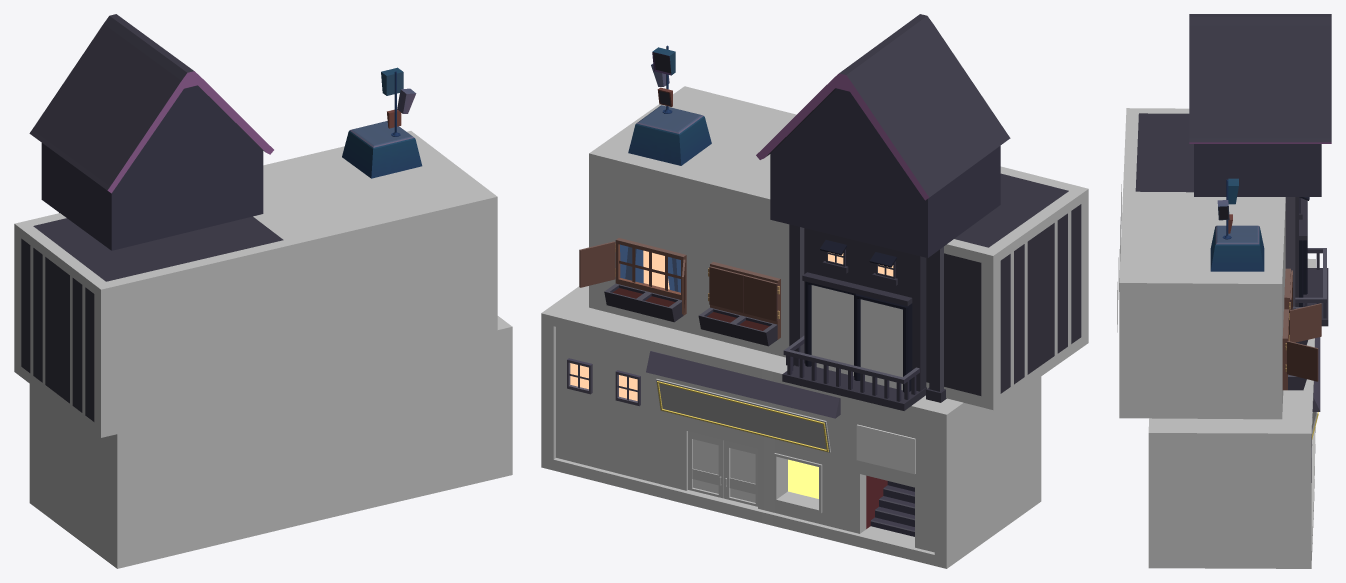
Rendered from CMHome301.fbx.
3 renders of one model, left to right at view 1: azimuth 30°, elevation 25°; view 2: azimuth 150°, elevation 25°; view 3: azimuth 270°, elevation 25°, orthographic. The views are drawn at different scales.
Parts seen in each view (by area): view 1: Crates.086, Crates.092, BuildingTopper.002, Transformer.005; view 2: Crates.092, Crates.086, BuildingTopper.002, HomeFacade.006, Window.191, CyberpunkSign, Window.192, Transformer.005, OutdoorLights, Support.032, Cube.004, SlidingDoors.015 (+5 smaller); view 3: Crates.086, Crates.092, BuildingTopper.002, Transformer.005, Window.191, HomeFacade.006, Support.031, Window.192, OutdoorLights.
Part boxes in pixels (left/top/right/bottom): Crates.086: left=14, top=131, right=497, bottom=437; Crates.092: left=29, top=316, right=512, bottom=568; BuildingTopper.002: left=29, top=14, right=273, bottom=250; Transformer.005: left=342, top=67, right=422, bottom=178; Crates.092: left=541, top=286, right=1041, bottom=568; Crates.086: left=589, top=86, right=1088, bottom=409; BuildingTopper.002: left=756, top=14, right=1010, bottom=257; HomeFacade.006: left=782, top=228, right=926, bottom=410; Window.191: left=579, top=238, right=686, bottom=322; CyberpunkSign: left=656, top=379, right=830, bottom=452; Window.192: left=698, top=261, right=780, bottom=346; Transformer.005: left=628, top=45, right=711, bottom=165; OutdoorLights: left=646, top=351, right=840, bottom=418; Support.032: left=926, top=246, right=946, bottom=402; Cube.004: left=856, top=424, right=915, bottom=474; SlidingDoors.015: left=688, top=431, right=723, bottom=498; Crates.086: left=1117, top=108, right=1285, bottom=419; Crates.092: left=1148, top=258, right=1315, bottom=568; BuildingTopper.002: left=1189, top=14, right=1331, bottom=196; Transformer.005: left=1210, top=178, right=1264, bottom=271; Window.191: left=1282, top=303, right=1321, bottom=390; HomeFacade.006: left=1295, top=197, right=1328, bottom=326; Support.031: left=1285, top=197, right=1295, bottom=306; Window.192: left=1284, top=268, right=1307, bottom=345; OutdoorLights: left=1312, top=337, right=1320, bottom=411.
Size of the model in its own units: 2637 by 2723 by 1261.
